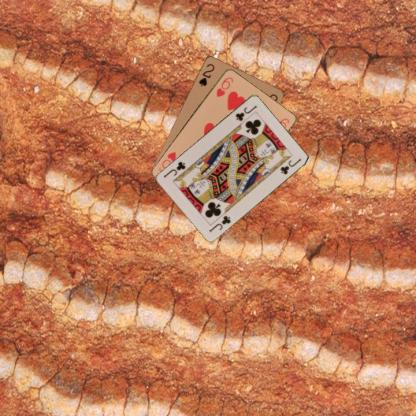2s: (196, 61, 215, 87)
6h: (214, 74, 234, 98)
Jc: (206, 212, 232, 233), (233, 102, 258, 122)
